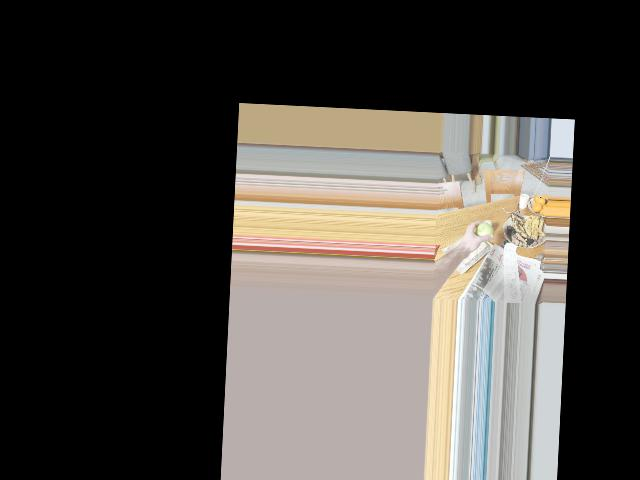apple: (474, 221, 494, 242)
